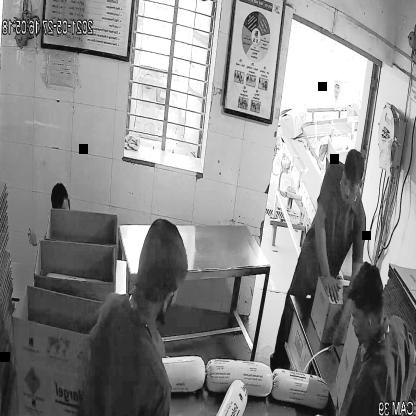no_goggles: (339, 173, 362, 198)
